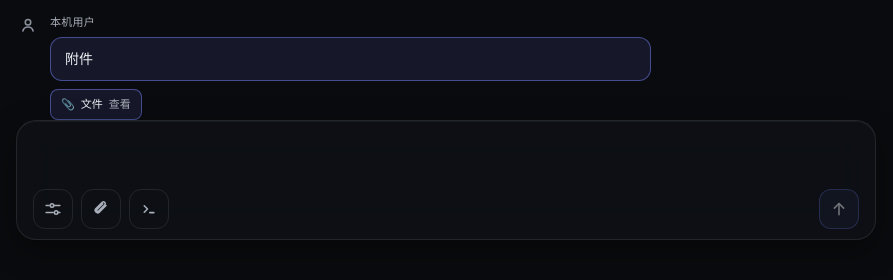
Test case: 门户里的附件 › 取不到时如实显示原因（不假装没有附件）
Click the button "📎 文件 查看". click: (96,104)
box: [50,89,142,120]
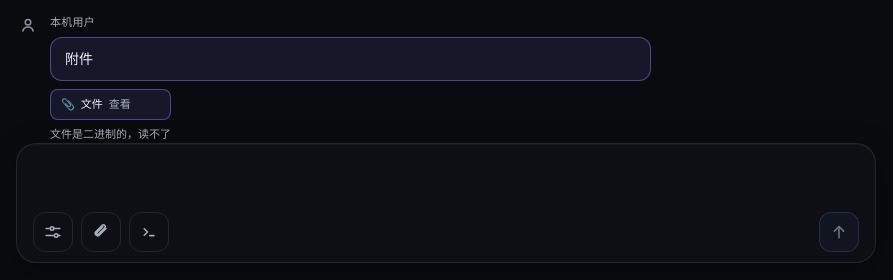
Expected: the text "文件是二进制的，读不了" is shown, [50,126,171,143]
